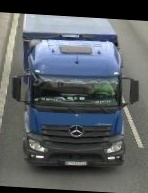truck: (7, 13, 139, 176)
